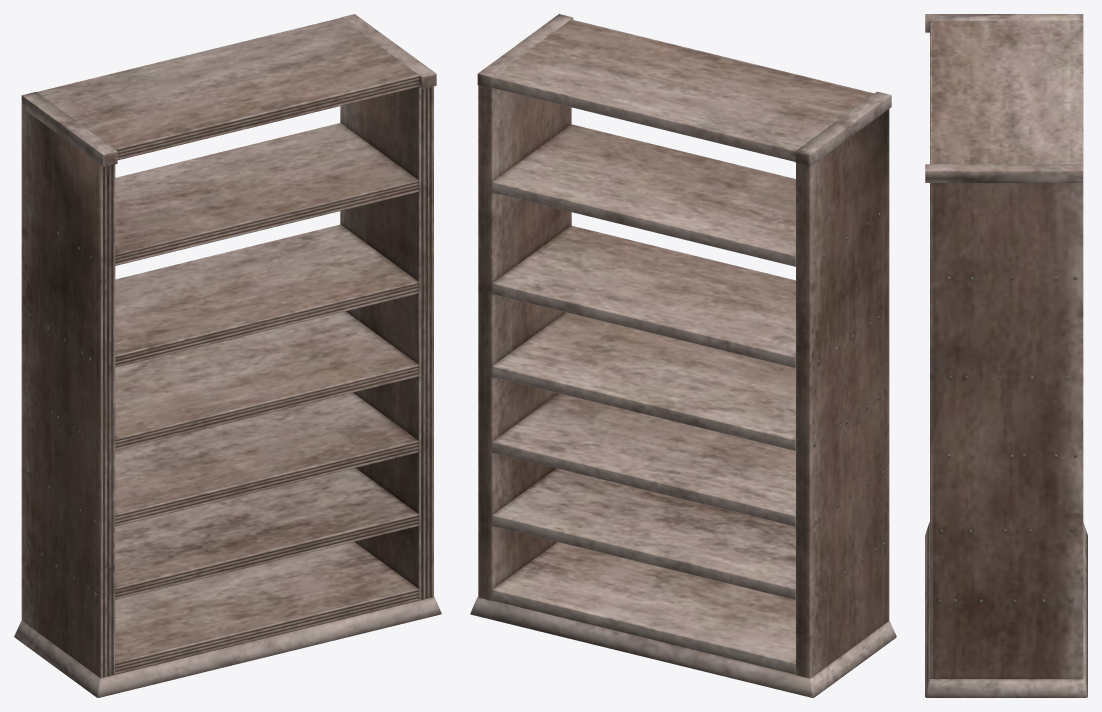
File: wooden_bookshelf_worn.glb
The picture shows the model from 3 angles, left to right: view 1: azimuth 30°, elevation 25°; view 2: azimuth 150°, elevation 25°; view 3: azimuth 270°, elevation 25°; orthographic projection. The views are drawn at different scales.
Visible parts, largest first — view 1: wooden_bookshelf_worn; view 2: wooden_bookshelf_worn; view 3: wooden_bookshelf_worn.
Boxes of the visible parts, x1,y1,x2,y2 form: wooden_bookshelf_worn: (14,14,441,697); wooden_bookshelf_worn: (470,14,896,697); wooden_bookshelf_worn: (925,14,1087,697).
Size of the model in its own units: 1.37 by 2.06 by 0.5814.
Materials: 1 (1 with a texture image).
